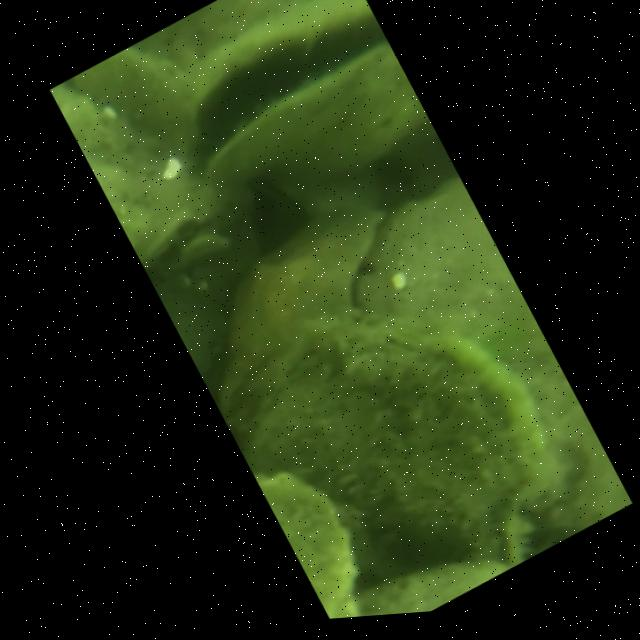Oyster-Closed: (263, 162, 384, 221), (147, 208, 230, 270)
Oyster-Indeterminate: (356, 173, 633, 538), (227, 311, 547, 594), (56, 86, 264, 401), (218, 208, 380, 413), (68, 46, 197, 166), (255, 473, 360, 619), (356, 560, 515, 617)
Oyster-Open: (188, 0, 429, 185)
